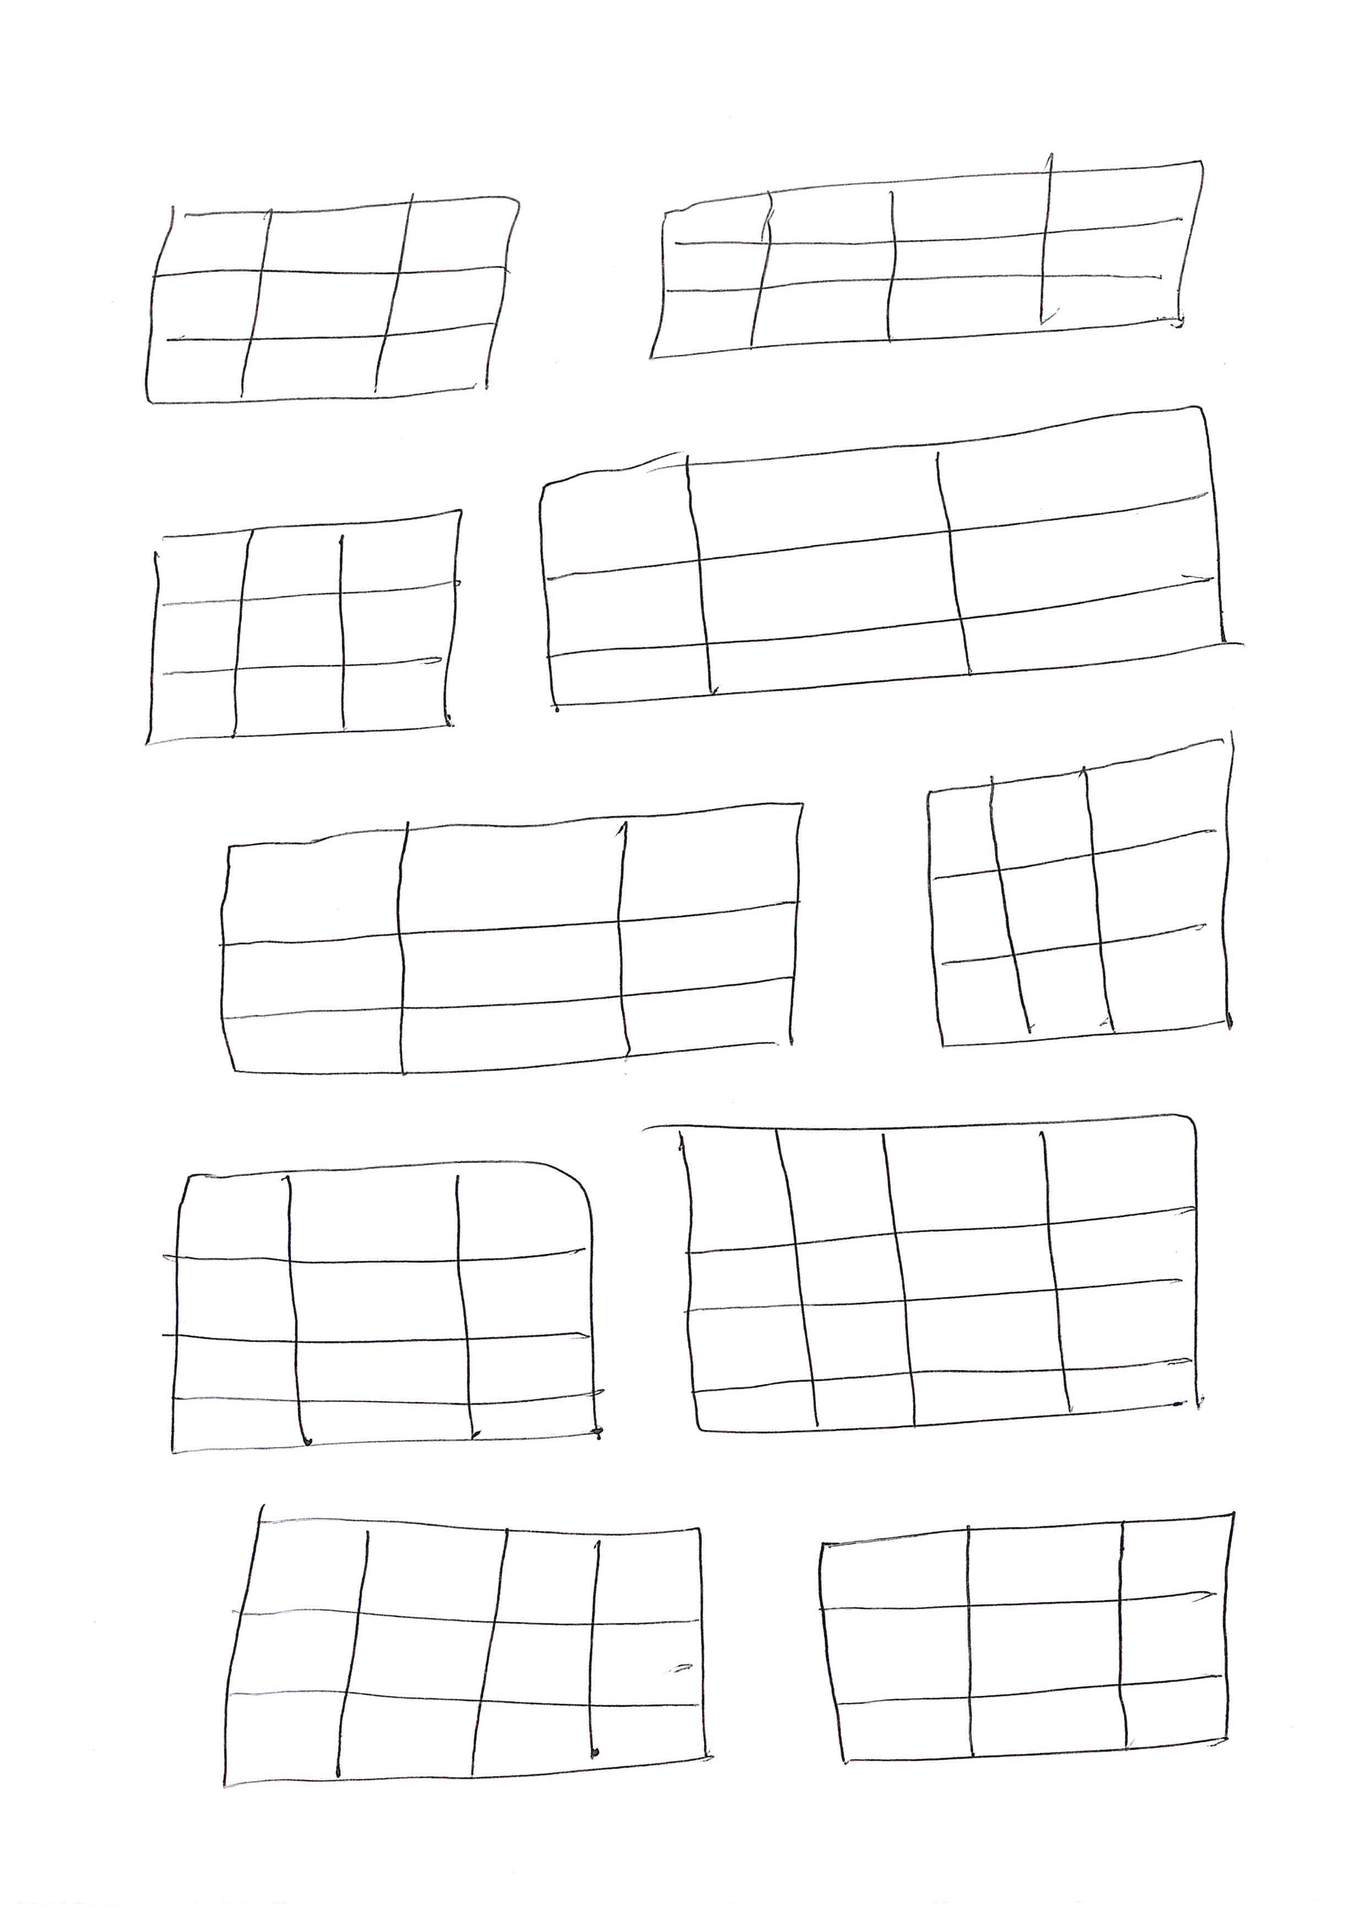Table: (535, 405, 1233, 710), (662, 1113, 1206, 1436), (214, 797, 807, 1078), (217, 1513, 711, 1791), (167, 1158, 605, 1459), (645, 160, 1206, 361), (816, 1508, 1240, 1764), (920, 736, 1240, 1053), (140, 191, 523, 410), (136, 509, 467, 750)
